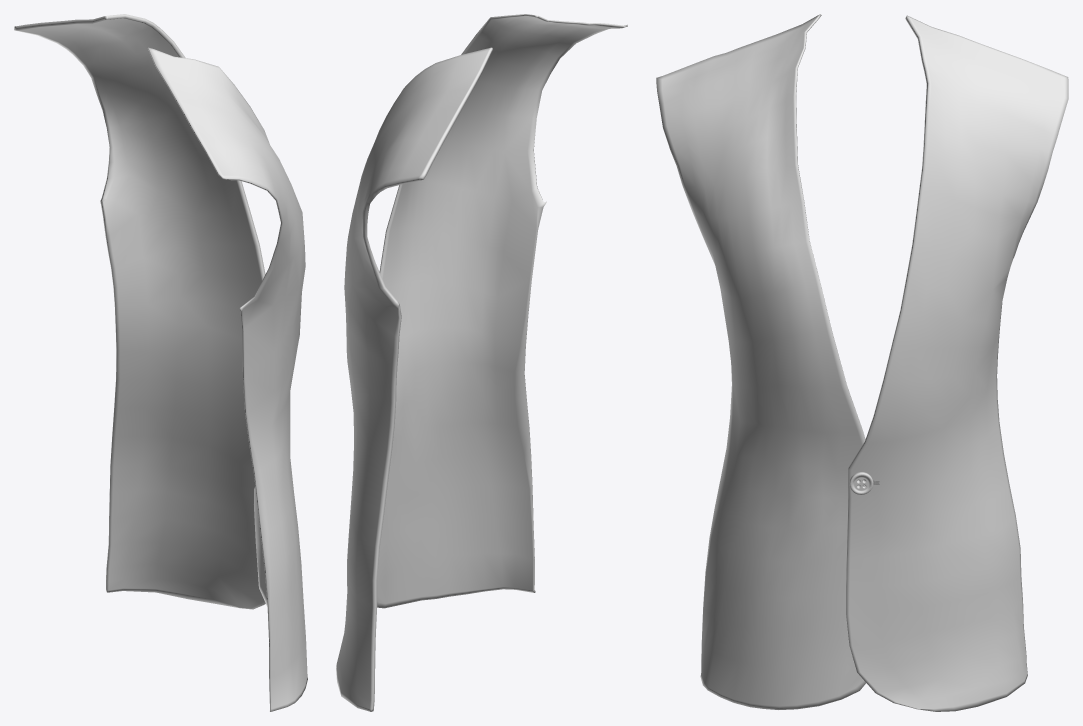
The picture shows the model from 3 angles, left to right: view 1: azimuth 30°, elevation 25°; view 2: azimuth 150°, elevation 25°; view 3: azimuth 270°, elevation 25°; orthographic projection.
Visible parts, largest first — view 1: SM_J__FrontB1; view 2: SM_J__FrontB1; view 3: SM_J__FrontB1.
Boxes of the visible parts, box(x1,y1,x2,y2) form: SM_J__FrontB1: box(14, 14, 307, 711); SM_J__FrontB1: box(336, 14, 627, 711); SM_J__FrontB1: box(656, 14, 1068, 711).
Size of the model in its own units: 1.07 by 4.04 by 2.38.
Materials: 4 (1 with a texture image).
